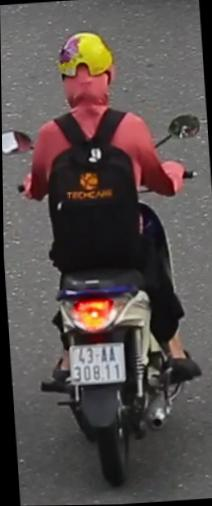LP: (67, 340, 129, 391)
helmet: (53, 24, 119, 116)
